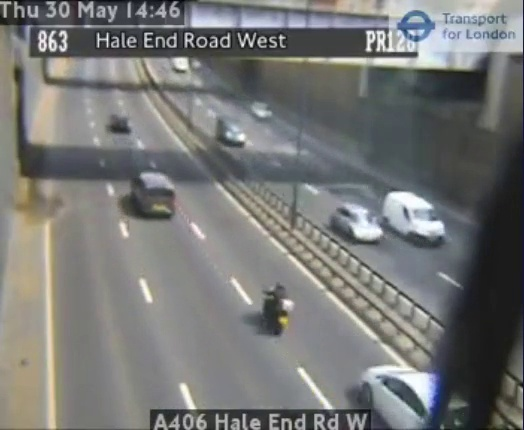motorcycle: (261, 281, 295, 337)
van: (132, 172, 175, 214)
